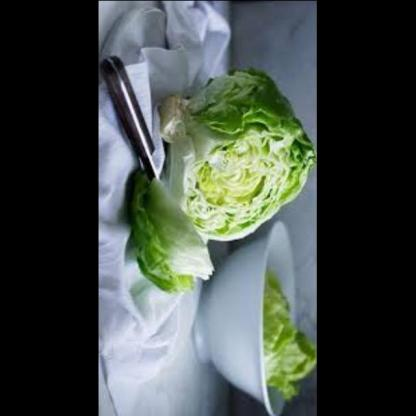salad: (158, 65, 318, 243), (122, 172, 218, 292), (260, 274, 318, 405)
